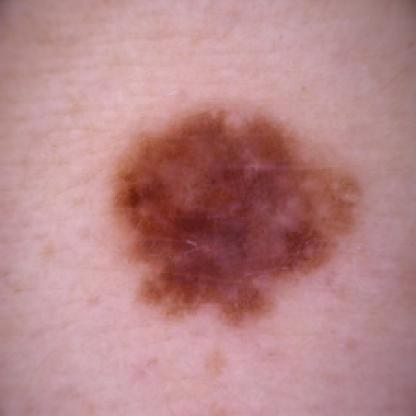Skin_Cancer-Malignant: (105, 97, 367, 335)
